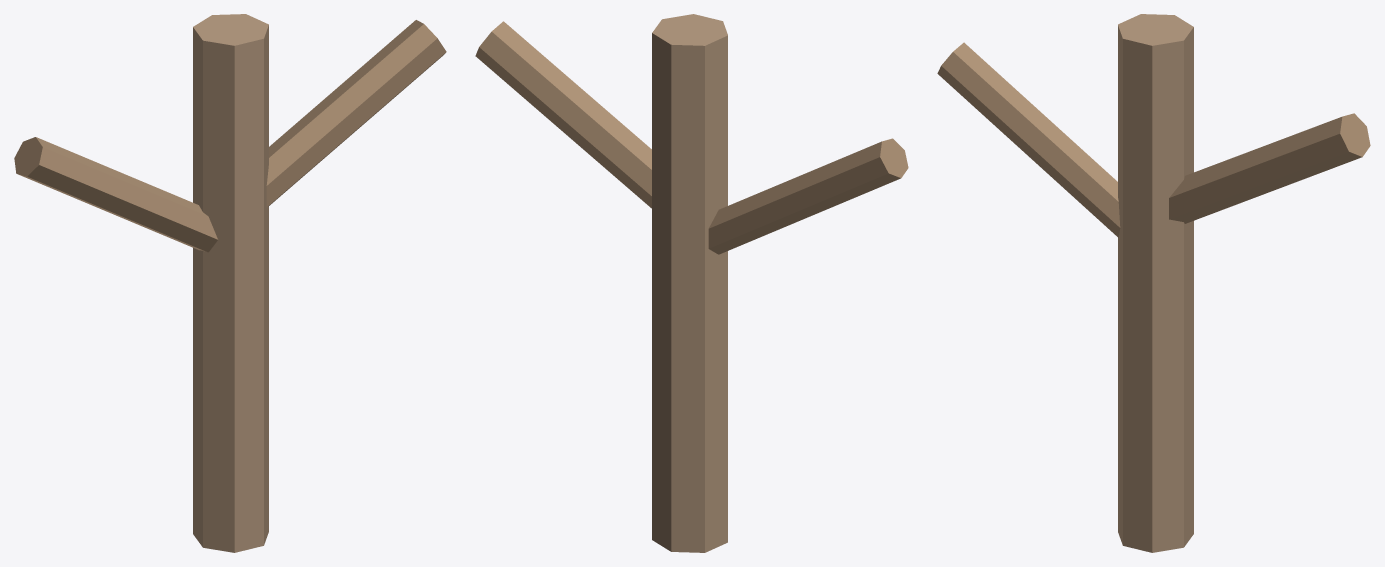
File: twig_anchor.glb
3 views of the same model, side by side, from view 1: azimuth 30°, elevation 25°; view 2: azimuth 150°, elevation 25°; view 3: azimuth 330°, elevation 25° (orthographic).
Parts seen in each view (by area): view 1: Upright, Branch_R, Branch_L; view 2: Upright, Branch_R, Branch_L; view 3: Upright, Branch_L, Branch_R.
Boxes of the visible parts, x1,y1,x2,y2 form: Upright: (193,14,268,552); Branch_R: (266,20,446,206); Branch_L: (14,137,217,252); Upright: (652,14,727,552); Branch_R: (475,21,651,208); Branch_L: (708,138,908,254); Upright: (1118,14,1193,552); Branch_L: (937,42,1120,237); Branch_R: (1169,113,1370,223).
Size of the model in its own units: 1.25 by 1.43 by 0.1901.
